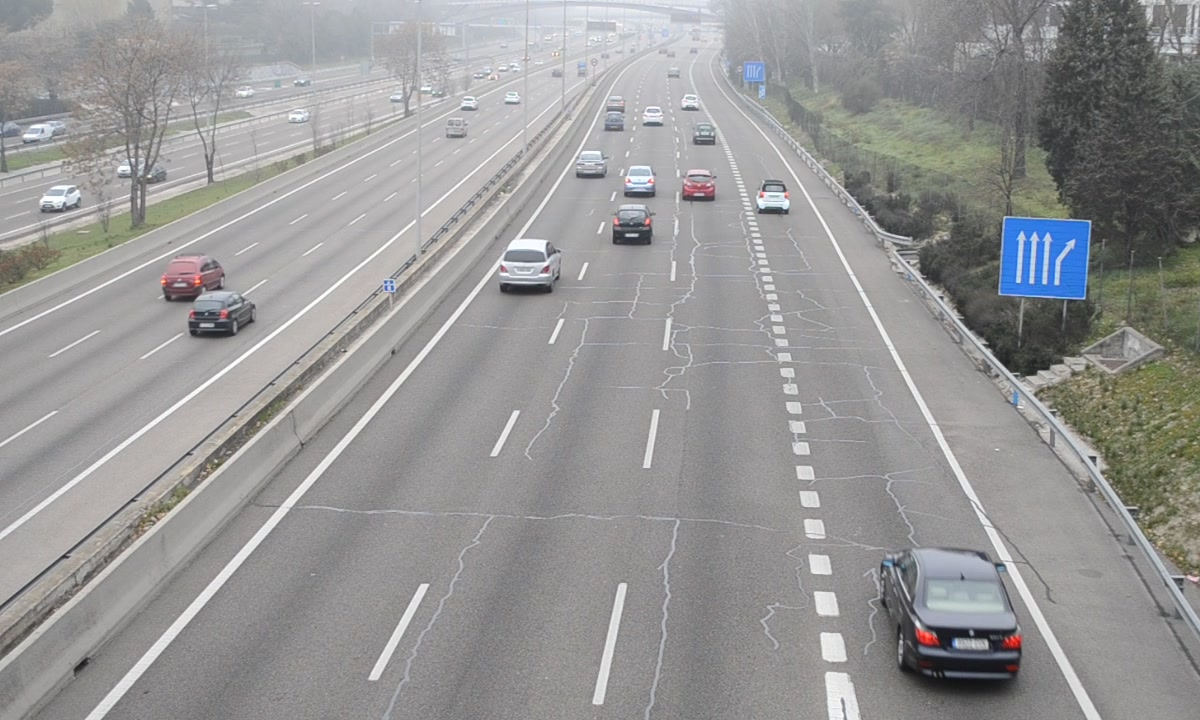car: (882, 549, 1023, 683), (497, 237, 561, 287), (611, 204, 655, 246), (757, 179, 791, 215), (682, 169, 717, 203), (624, 164, 657, 198), (575, 151, 608, 180), (691, 122, 717, 147), (602, 112, 627, 132)
